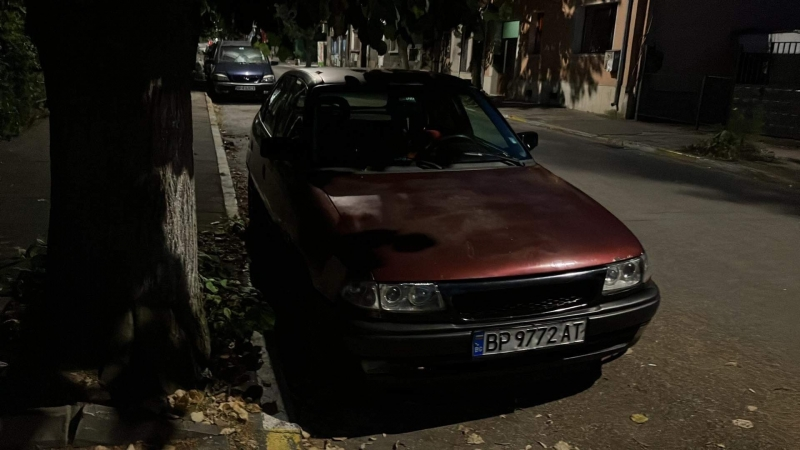registration_plate: (468, 319, 588, 358), (235, 84, 257, 92)
